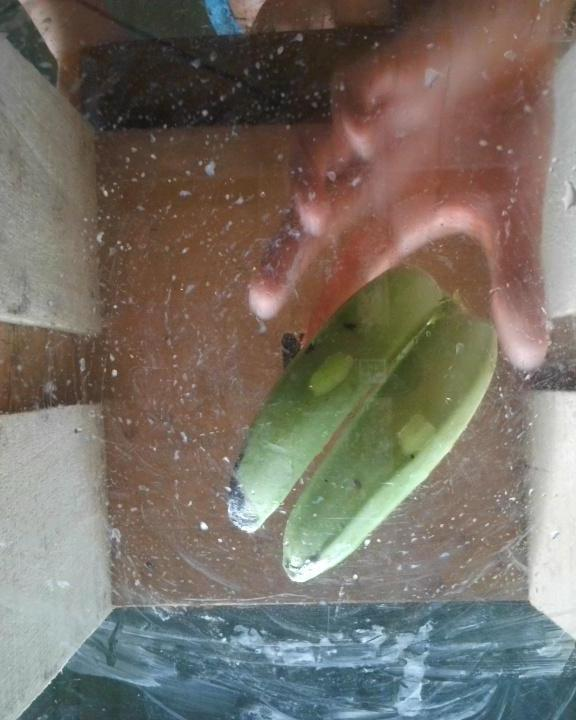CLASS B: (220, 265, 492, 585)
Class A: (224, 472, 256, 531), (327, 311, 364, 339), (341, 469, 374, 495), (298, 337, 323, 361)
